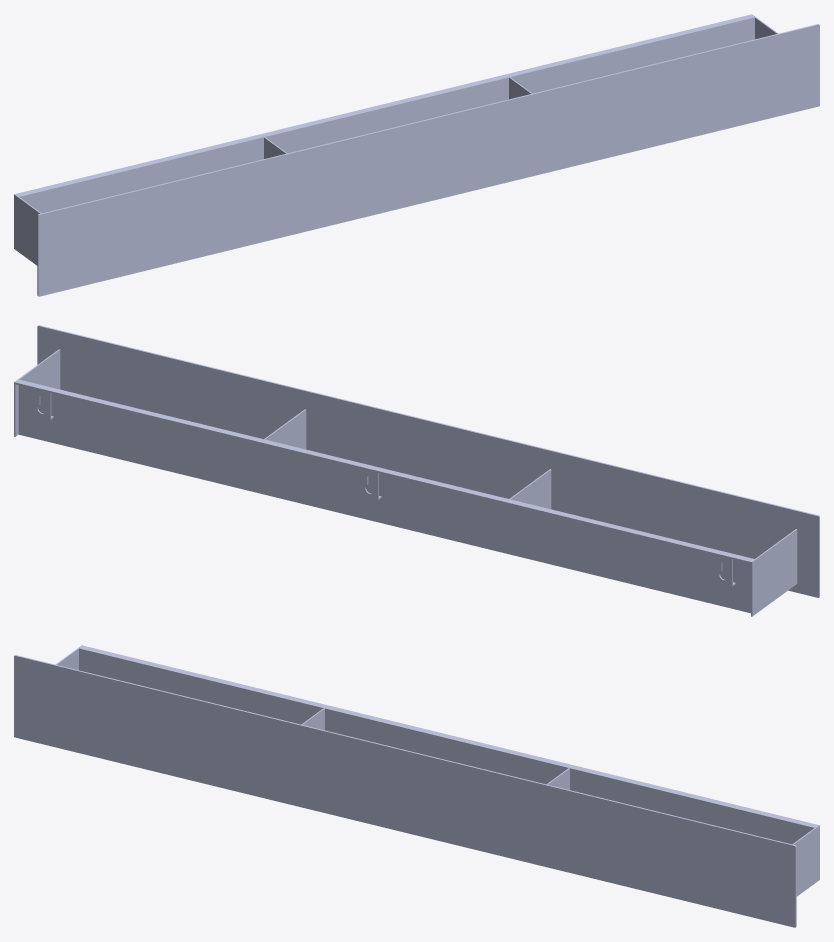
The model's file is skyline-mono.b515db64a0.glb.
3 views of the same model, one above another, from view 1: azimuth 30°, elevation 25°; view 2: azimuth 150°, elevation 25°; view 3: azimuth 330°, elevation 25° (orthographic).
Parts seen in each view (by area): view 1: NAUO1; view 2: NAUO1; view 3: NAUO1.
Part boxes in pixels (x1,y1,x2,y2): NAUO1: (14,14,819,296); NAUO1: (14,325,819,616); NAUO1: (14,645,819,927).
Size of the model in its own units: 0.9 by 0.09 by 0.092.
